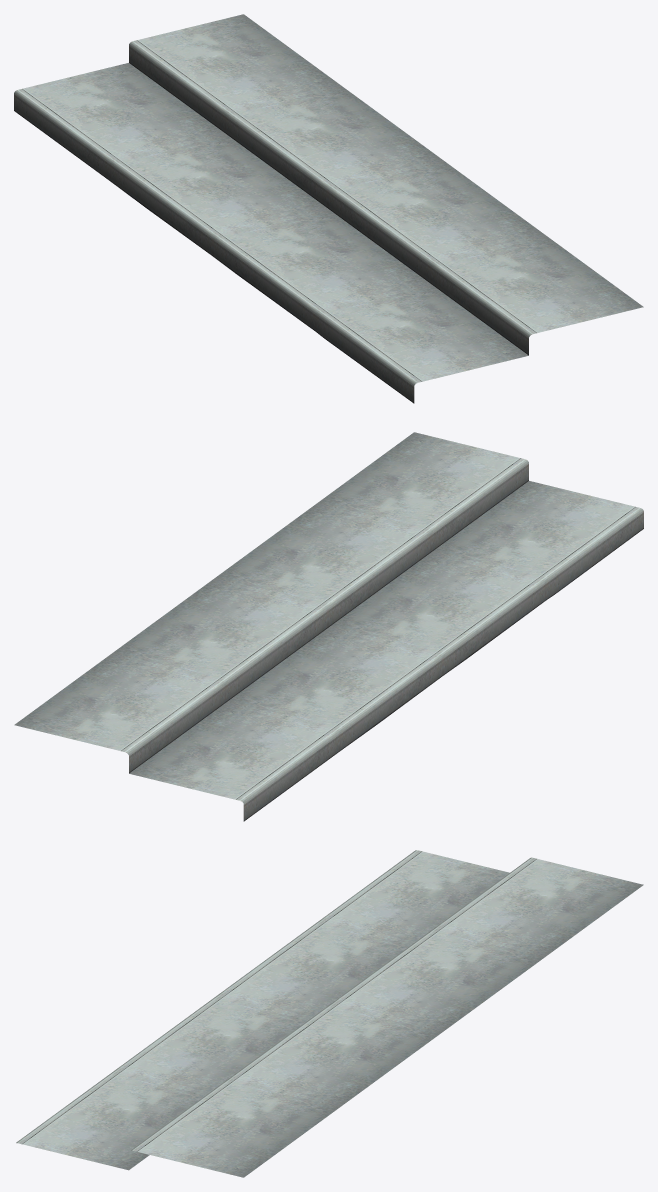
3 views of the same model, one above another, from view 1: azimuth 30°, elevation 25°; view 2: azimuth 150°, elevation 25°; view 3: azimuth 330°, elevation 25° (orthographic).
Visible parts, largest first — view 1: Joint_0_Object_0; view 2: Joint_0_Object_0; view 3: Joint_0_Object_0.
Part boxes in pixels (x1,y1,x2,y2): Joint_0_Object_0: [14, 14, 643, 403]; Joint_0_Object_0: [14, 432, 643, 821]; Joint_0_Object_0: [16, 850, 643, 1177].
Size of the model in its own units: 1200 by 202 by 3613.
Materials: 1 (1 with a texture image).
